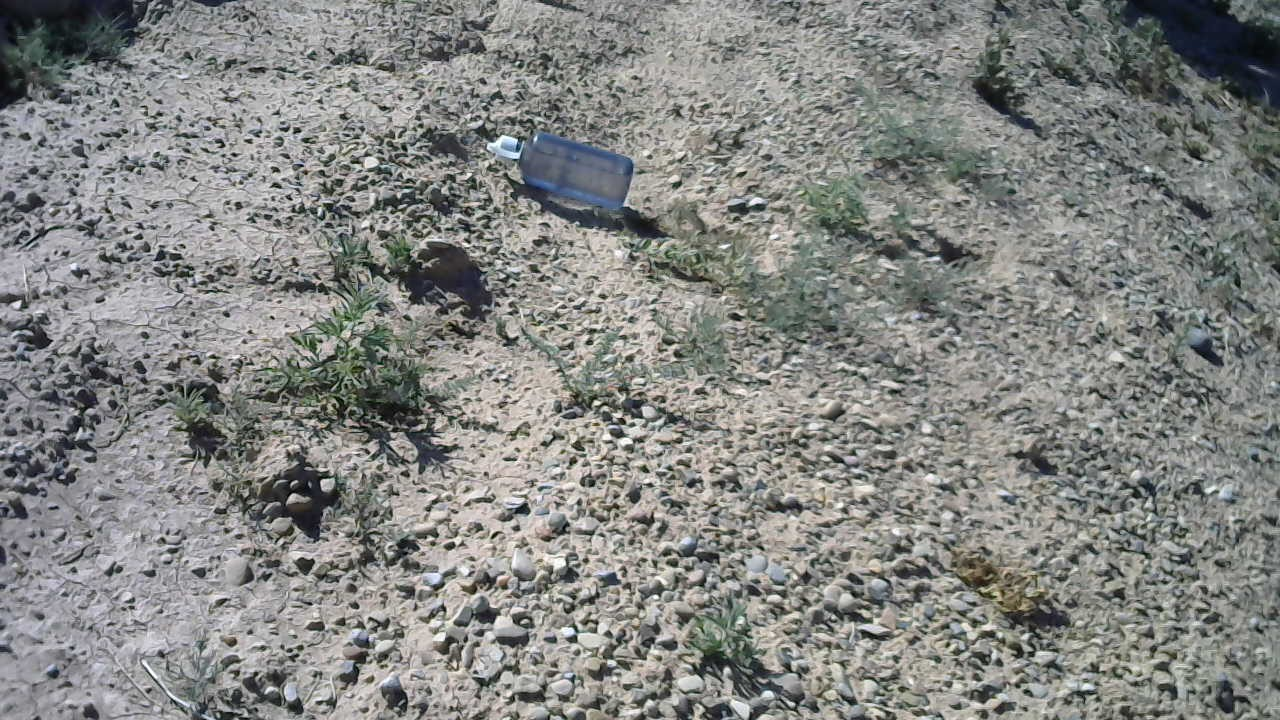bottle: (482, 119, 636, 214)
